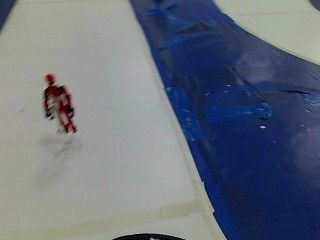pedestrian: (41, 72, 78, 133)
